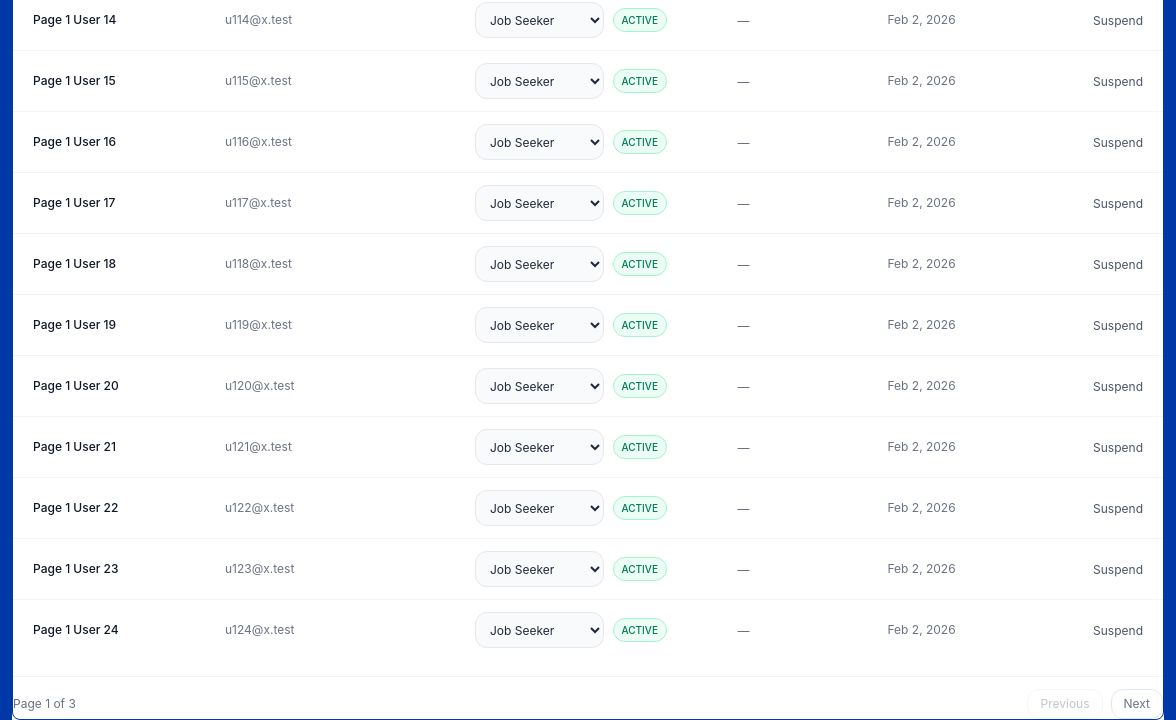
Test: UserManagement pagination (C2) › renders the envelope data and pages forward through the total
The image size is (1176, 720).
(page scrolled)
Check: the text "Page 1 of 3" is shown, box [13,696,76,712]
Check: the button "Previous" is disabled, box [1028,689,1102,719]
What coordinates should you click on to do the following:
click the button "Next"
I would click on:
 (1137, 704)
Its box is [1110,689,1163,719].
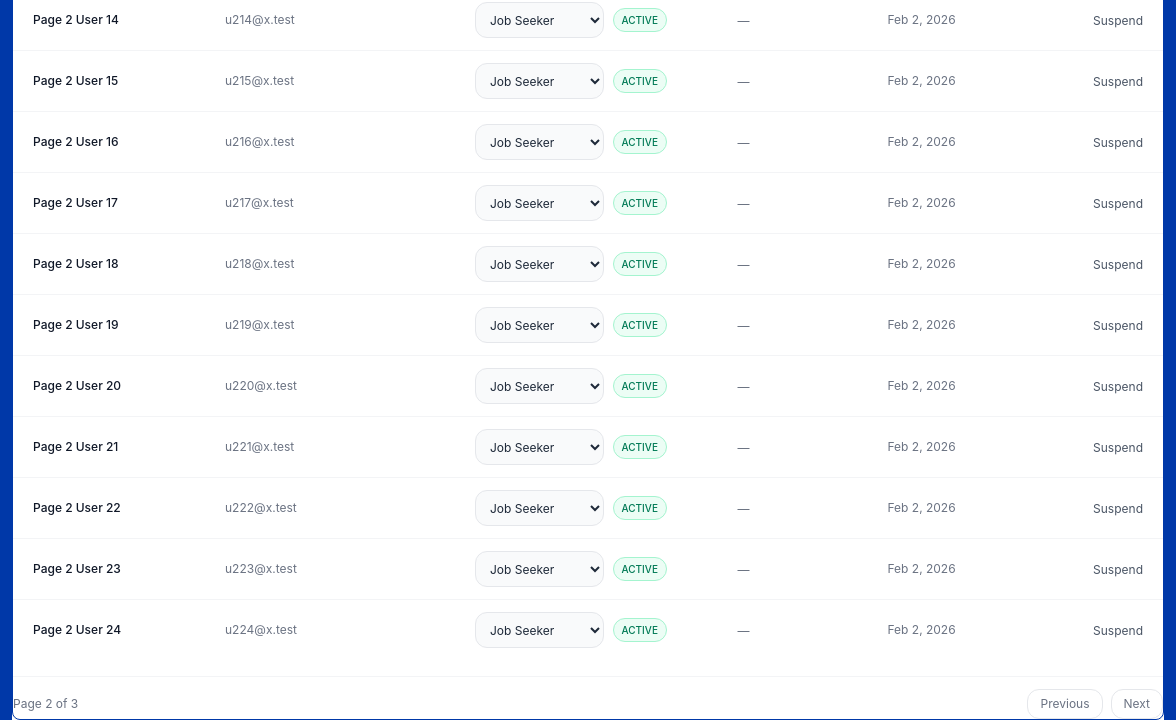
Check: the button "Previous" is enabled, box [1028,689,1102,719]
